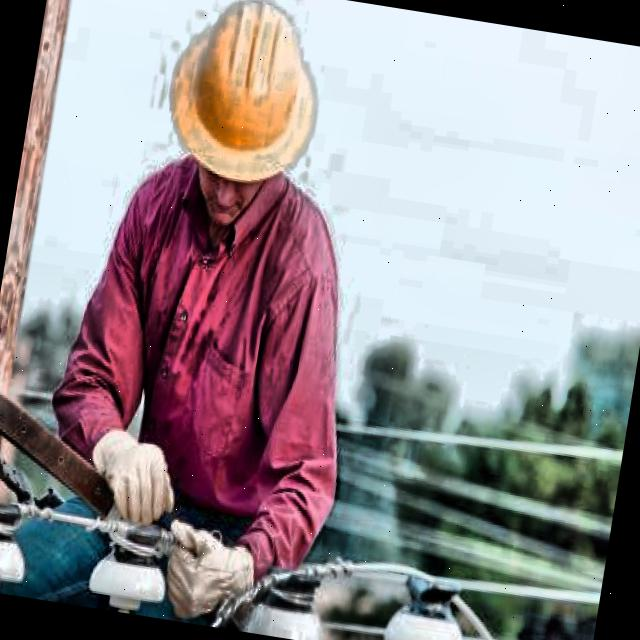helmet: (147, 0, 343, 253)
